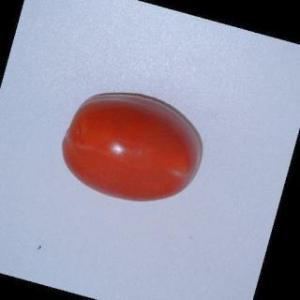tomato: (52, 89, 210, 211)
